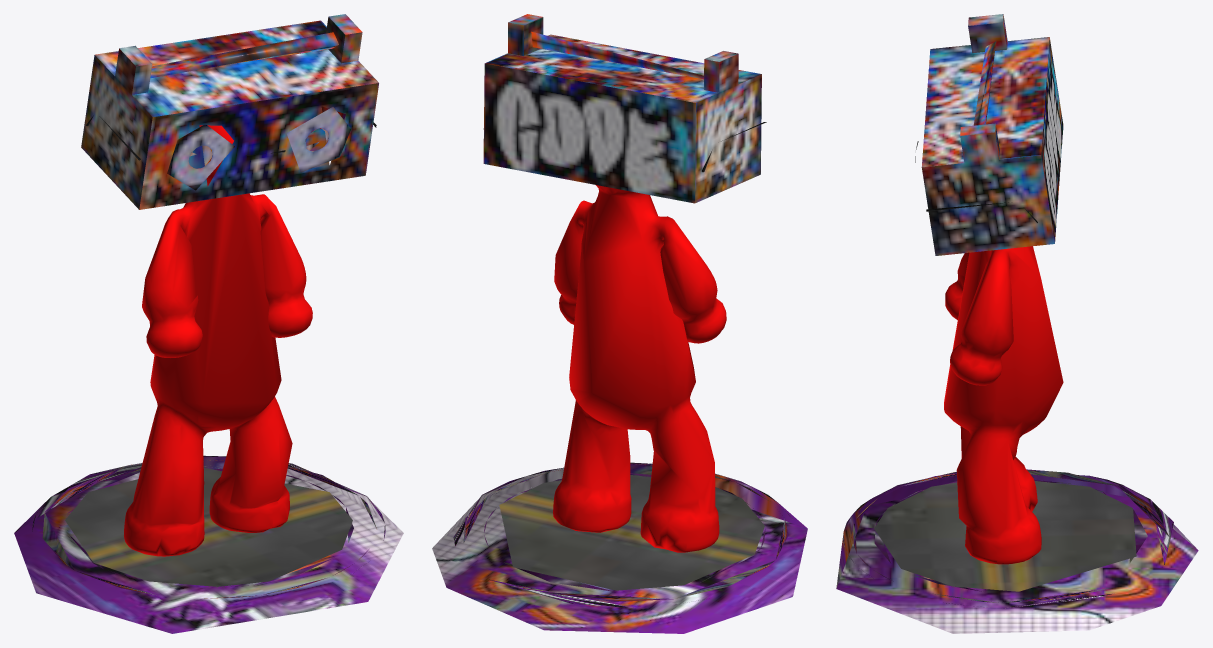
File: out_bOOBOXBODY_Mat_1_Mat_1.baked.001_LOD1_101_LOD.glb
The picture shows the model from 3 angles, left to right: view 1: azimuth 30°, elevation 25°; view 2: azimuth 150°, elevation 25°; view 3: azimuth 270°, elevation 25°; orthographic projection. The views are drawn at different scales.
Visible parts, largest first — view 1: bOOBOXBODY_Mat_1_Mat_1.baked.001_LOD1; view 2: bOOBOXBODY_Mat_1_Mat_1.baked.001_LOD1; view 3: bOOBOXBODY_Mat_1_Mat_1.baked.001_LOD1.
Boxes of the visible parts, x1,y1,x2,y2 form: bOOBOXBODY_Mat_1_Mat_1.baked.001_LOD1: [14, 14, 403, 633]; bOOBOXBODY_Mat_1_Mat_1.baked.001_LOD1: [432, 14, 807, 633]; bOOBOXBODY_Mat_1_Mat_1.baked.001_LOD1: [836, 14, 1198, 633].
Bounding box in the file's own units: 1.41 × 2.11 × 1.39.
Materials: 5 (3 with a texture image).
